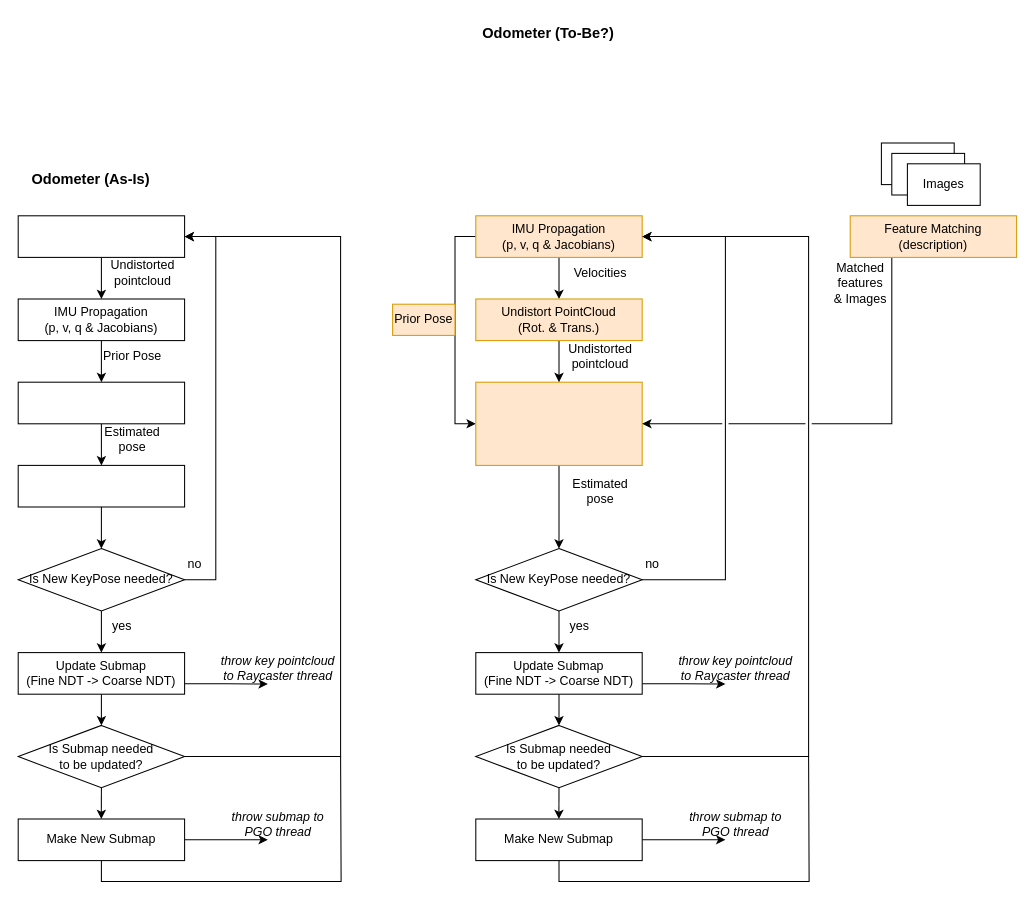
The diagram is 1035 pixels wide and 901 high, and some of its shapes have lost their labels. The box of each missing label's shape, as (x1, y1, x2, y2) in pixels:
Optimize IMU states (sliding window size up to 5): (17, 464, 185, 507)
Pose & IMU State Joint Optimization (Sliding window): (475, 381, 642, 465)
Pose Estimation (Scan-to-Submap): (17, 381, 185, 424)
Undistort PointCloud (point-by-point Rotation only): (17, 215, 185, 257)
